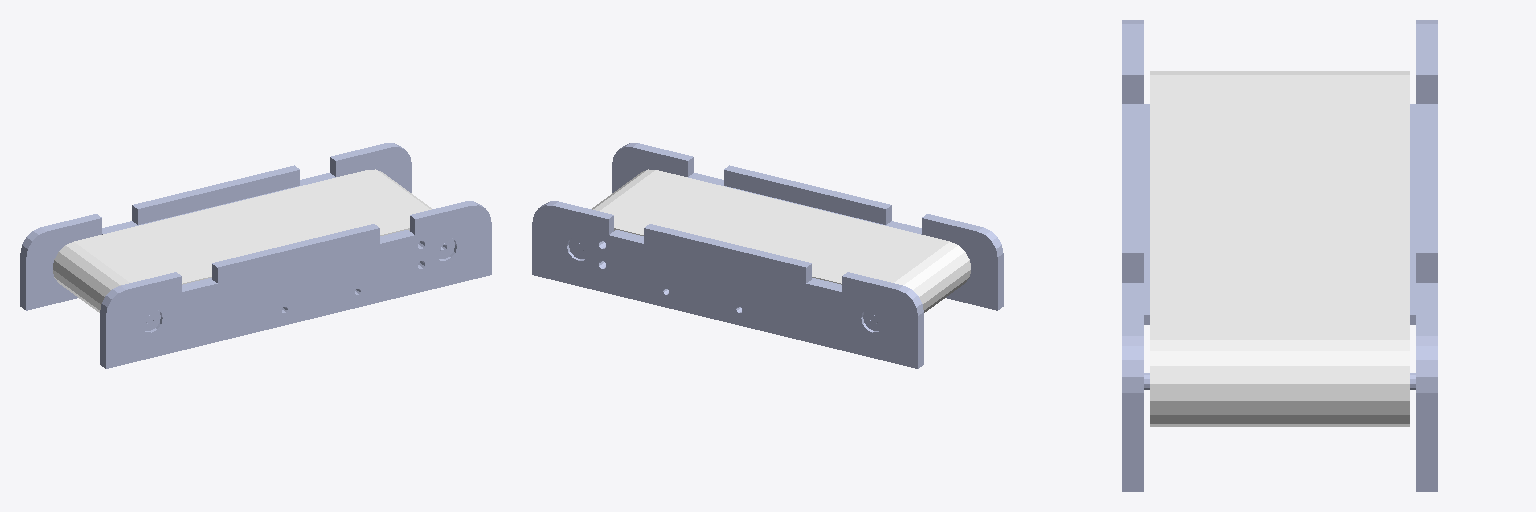
robot.urdf — conveyor_belt_model:
<?xml version="1.0" encoding="utf-8"?>

<robot
  name="conveyor_belt_model">
  <link
    name="base_link">
    <inertial>
      <origin
        xyz="-0.00042305 -2.7756E-17 -0.017041"
        rpy="0 0 0" />
      <mass
        value="0.102" />
      <inertia
        ixx="0.00042164"
        ixy="-7.7249E-19"
        ixz="-6.2679E-08"
        iyy="0.0065622"
        iyz="1.5698E-19"
        izz="0.0065969" />
    </inertial>
    <visual>
      <origin
        xyz="0 0 0"
        rpy="0 0 0" />
      <geometry>
        <mesh
          filename="package://conveyorbelt_models/meshes/base_link.STL" />
      </geometry>
      <material
        name="">
        <color
          rgba="0.79216 0.81961 0.93333 1" />
      </material>
    </visual>
    <collision>
      <origin
        xyz="0 0 0"
        rpy="0 0 0" />
      <geometry>
        <mesh
          filename="package://conveyorbelt_models/meshes/base_link.STL" />
      </geometry>
      <surface>
        <friction>
          <ode>
            <mu>2.0</mu>
            <mu2>2.0</mu2>
	    <slip1>0.0</slip1>
	    <slip2>0.0</slip2>
          </ode>
        </friction>
      </surface>
    </collision>
  </link>
  <gazebo 
    reference="base_link">
    <material>Gazebo/WhiteGlow</material>
  </gazebo>
  <link
    name="motor_link">
    <inertial>
      <origin
        xyz="8.1799E-05 0.070043 0.00025174"
        rpy="0 0 0" />
      <mass
        value="0.05" />
      <inertia
        ixx="0.00035614"
        ixy="-9.4003E-10"
        ixz="-2.8232E-11"
        iyy="5.027E-05"
        iyz="-2.893E-09"
        izz="0.00035614" />
    </inertial>
    <visual>
      <origin
        xyz="0 0 0"
        rpy="0 0 0" />
      <geometry>
        <mesh
          filename="package://conveyorbelt_models/meshes/motor_link.STL" />
      </geometry>
      <material
        name="">
        <color
          rgba="0.79216 0.81961 0.93333 1" />
      </material>
    </visual>
    <collision>
      <origin
        xyz="0 0 0"
        rpy="0 0 0" />
      <geometry>
        <mesh
          filename="package://conveyorbelt_models/meshes/motor_link.STL" />
      </geometry>
      <surface>
        <friction>
          <ode>
            <mu>0.2</mu>
            <mu2>0.2</mu2>
	    <slip1>0.0</slip1>
	    <slip2>0.0</slip2>
          </ode>
        </friction>
      </surface>
    </collision>
  </link>
  <gazebo 
    reference="motor_link">
    <material>Gazebo/Grey</material>
  </gazebo>
  <joint
    name="motor_joint"
    type="continuous">
    <origin
      xyz="0.14492 -0.07 -0.020252"
      rpy="0 0 0" />
    <parent
      link="base_link" />
    <child
      link="motor_link" />
    <axis
      xyz="0 1 0" />
    <limit
      effort="100"
      velocity="1.625" />
    <joint_properties damping="0.0"/>
  </joint>
  <link
    name="another_link">
    <inertial>
      <origin
        xyz="-1.9429E-16 -0.07 8.3267E-17"
        rpy="0 0 0" />
      <mass
        value="0.05" />
      <inertia
        ixx="0.00035694"
        ixy="-4.7434E-20"
        ixz="5.3114E-21"
        iyy="5.0271E-05"
        iyz="4.8365E-19"
        izz="0.00035694" />
    </inertial>
    <visual>
      <origin
        xyz="0 0 0"
        rpy="0 0 0" />
      <geometry>
        <mesh
          filename="package://conveyorbelt_models/meshes/another_link.STL" />
      </geometry>
      <material
        name="">
        <color
          rgba="0.79216 0.81961 0.93333 1" />
      </material>
    </visual>
    <collision>
      <origin
        xyz="0 0 0"
        rpy="0 0 0" />
      <geometry>
        <mesh
          filename="package://conveyorbelt_models/meshes/another_link.STL" />
      </geometry>
      <surface>
        <friction>
          <ode>
            <mu>0.2</mu>
            <mu2>0.2</mu2>
	    <slip1>0.0</slip1>
	    <slip2>0.0</slip2>
          </ode>
        </friction>
      </surface>
    </collision>
  </link>
  <gazebo 
    reference="another_link">
    <material>Gazebo/Grey</material>
  </gazebo>
  <joint
    name="another_joint"
    type="continuous">
    <origin
      xyz="-0.145 0.07 -0.02"
      rpy="0 0 0" />
    <parent
      link="base_link" />
    <child
      link="another_link" />
    <axis
      xyz="0 1 0" />
    <limit
      effort="100"
      velocity="1.625" />
    <joint_properties damping="0.0"/>
  </joint>
  <link
    name="belt_link">
    <inertial>
      <origin
        xyz="0 0 0"
        rpy="0 0 0" />
      <mass
        value="0.024" />
      <inertia
        ixx="0"
        ixy="0"
        ixz="0"
        iyy="0"
        iyz="0"
        izz="0" />
    </inertial>
    <visual>
      <origin
        xyz="0 0 0"
        rpy="0 0 0" />
      <geometry>
        <mesh
          filename="package://conveyorbelt_models/meshes/belt_link.STL" />
      </geometry>
      <material
        name="">
        <color
          rgba="1 1 1 1" />
      </material>
    </visual>
    <collision>
      <origin
        xyz="0 0 0"
        rpy="0 0 0" />
      <geometry>
        <mesh
          filename="package://conveyorbelt_models/meshes/belt_link.STL" />
      </geometry>
      <surface>
        <friction>
          <ode>
            <mu>0.2</mu>
            <mu2>0.2</mu2>
	    <slip1>0.0</slip1>
	    <slip2>0.0</slip2>
          </ode>
        </friction>
      </surface>
    </collision>
  </link>
  <gazebo 
    reference="belt_link">
    <material>Gazebo/Grass</material>
  </gazebo>
  <joint
    name="belt_joint"
    type="fixed">
    <origin
      xyz="0 0 0"
      rpy="0 0 0" />
    <parent
      link="base_link" />
    <child
      link="belt_link" />
    <axis
      xyz="0 0 0" />
    <limit
      effort="100"
      velocity="1.625" />
    <joint_properties damping="0.0"/>
  </joint>

<gazebo>
  <plugin name="differential_drive_controller" filename="libgazebo_ros_diff_drive.so">

    <!-- Plugin update rate in Hz -->
    <updateRate>10</updateRate>

    <!-- Name of left joint, defaults to `left_joint` -->
    <leftJoint>another_joint</leftJoint>

    <!-- Name of right joint, defaults to `right_joint` -->
    <rightJoint>motor_joint</rightJoint>

    <!-- The distance from the center of one wheel to the other, in meters, defaults to 0.34 m -->
    <wheelSeparation>0.29</wheelSeparation>

    <!-- Diameter of the wheels, in meters, defaults to 0.15 m -->
    <wheelDiameter>0.08</wheelDiameter>

    <!-- Wheel acceleration, in rad/s^2, defaults to 0.0 rad/s^2 -->
    <wheelAcceleration>0.0</wheelAcceleration>

    <!-- Maximum torque which the wheels can produce, in Nm, defaults to 5 Nm -->
    <wheelTorque>1000</wheelTorque>

    <!-- Topic to receive geometry_msgs/Twist message commands, defaults to `cmd_vel` -->
    <commandTopic>convey1_cmd_vel</commandTopic>

    <!-- Topic to publish nav_msgs/Odometry messages, defaults to `odom` >
    <odometryTopic>odom</odometryTopic -->

    <!-- Odometry frame, defaults to `odom` >
    <odometryFrame>odom</odometryFrame -->

    <!-- Robot frame to calculate odometry from, defaults to `base_footprint` -->
    <!--robotBaseFrame>base_footprint</robotBaseFrame-->

    <!-- Odometry source, 0 for ENCODER, 1 for WORLD, defaults to WORLD -->
    <!--odometrySource>1</odometrySource-->

    <!-- Set to true to publish transforms for the wheel links, defaults to false -->
    <publishWheelTF>true</publishWheelTF>

    <!-- Set to true to publish transforms for the odometry, defaults to true >
    <publishOdom>true</publishOdom -->

    <!-- Set to true to publish sensor_msgs/JointState on /joint_states for the wheel joints, defaults to false -->
    <publishWheelJointState>true</publishWheelJointState>

    <!-- Set to true to swap right and left wheels, defaults to true -->
    <legacyMode>false</legacyMode>
  </plugin>
</gazebo>

</robot>

--- Facts derived from the render (not from the file) ---
The picture shows the robot from 3 angles, left to right: view 1: azimuth 30°, elevation 25°; view 2: azimuth 150°, elevation 25°; view 3: azimuth 270°, elevation 25°; orthographic projection.
Model conveyor_belt_model with 4 links and 3 joints (2 continuous, 1 fixed), rooted at base_link, posed all joints at 0.
Links seen in each view (by area): view 1: base_link, belt_link; view 2: base_link, belt_link; view 3: belt_link, base_link.
Boxes of the visible links, x1,y1,x2,y2 form: base_link: [20, 143, 491, 368]; belt_link: [53, 169, 431, 312]; base_link: [532, 143, 1003, 368]; belt_link: [592, 169, 970, 312]; belt_link: [1150, 71, 1409, 426]; base_link: [1122, 20, 1437, 491].
Size in the robot's own frame: 0.38 by 0.146 by 0.07 metres.
Meshes: 4 distinct files referenced, 4 mesh visuals loaded (4 binary STL).
